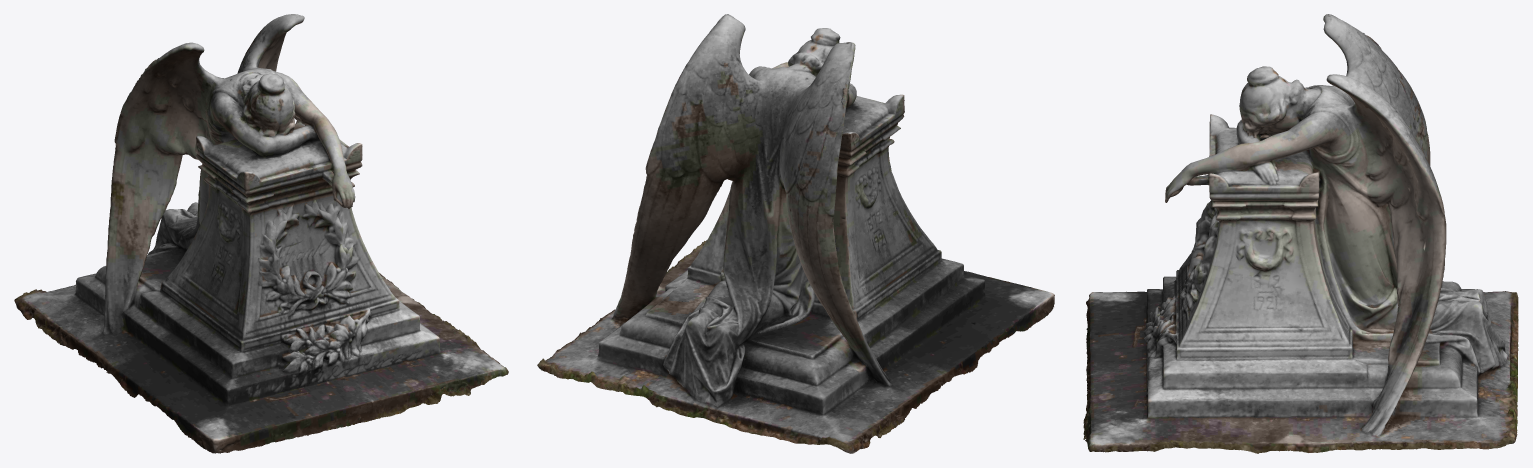
The model's file is frank.glb.
The picture shows the model from 3 angles, left to right: view 1: azimuth 30°, elevation 25°; view 2: azimuth 150°, elevation 25°; view 3: azimuth 270°, elevation 25°; orthographic projection. The views are drawn at different scales.
Visible parts, largest first — view 1: Franks.C352.SC130k.DC32270k.M2064k; view 2: Franks.C352.SC130k.DC32270k.M2064k; view 3: Franks.C352.SC130k.DC32270k.M2064k.
Boxes of the visible parts, x1,y1,x2,y2 form: Franks.C352.SC130k.DC32270k.M2064k: (14,14,508,453); Franks.C352.SC130k.DC32270k.M2064k: (537,14,1054,453); Franks.C352.SC130k.DC32270k.M2064k: (1083,14,1518,453).
Bounding box in the file's own units: 1.7 × 1.68 × 1.95.
Materials: 1 (1 with a texture image).
